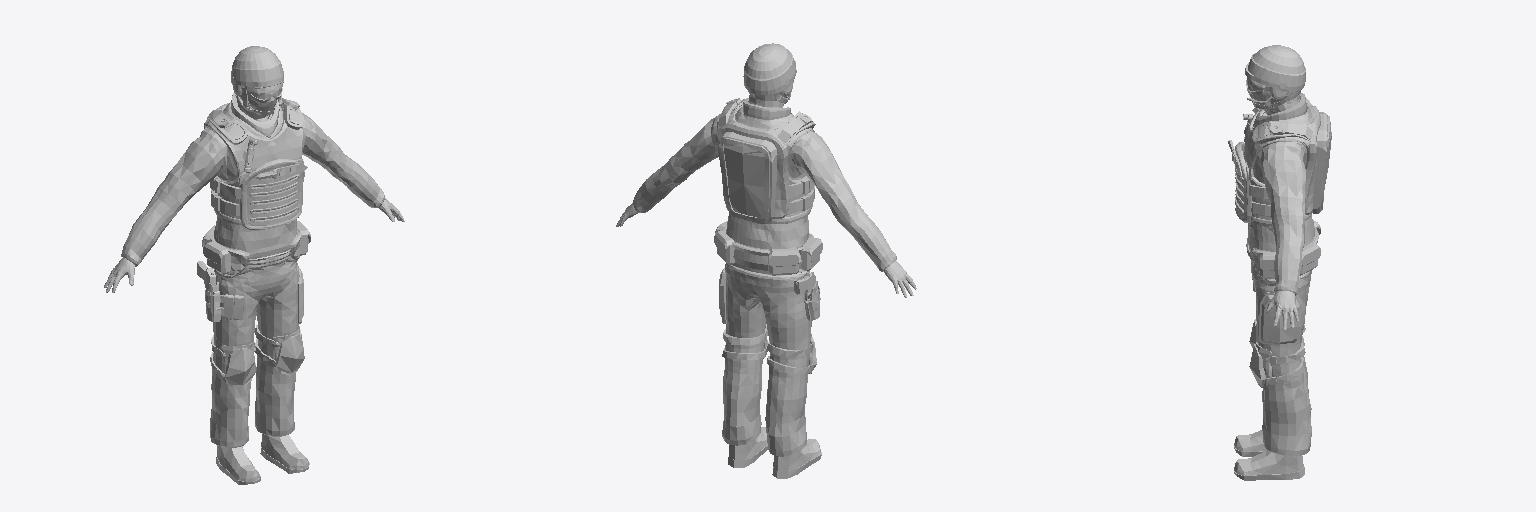
The model's file is scp_guard.obj.
3 views of the same model, side by side, from view 1: azimuth 30°, elevation 25°; view 2: azimuth 150°, elevation 25°; view 3: azimuth 270°, elevation 25° (orthographic).
Visible parts, largest first — view 1: Body; view 2: Body; view 3: Body.
Boxes of the visible parts, x1,y1,x2,y2 form: Body: [104, 46, 404, 484]; Body: [616, 43, 916, 478]; Body: [1228, 45, 1331, 480].
Size of the model in its own units: 1.96 by 2.65 by 0.6001.